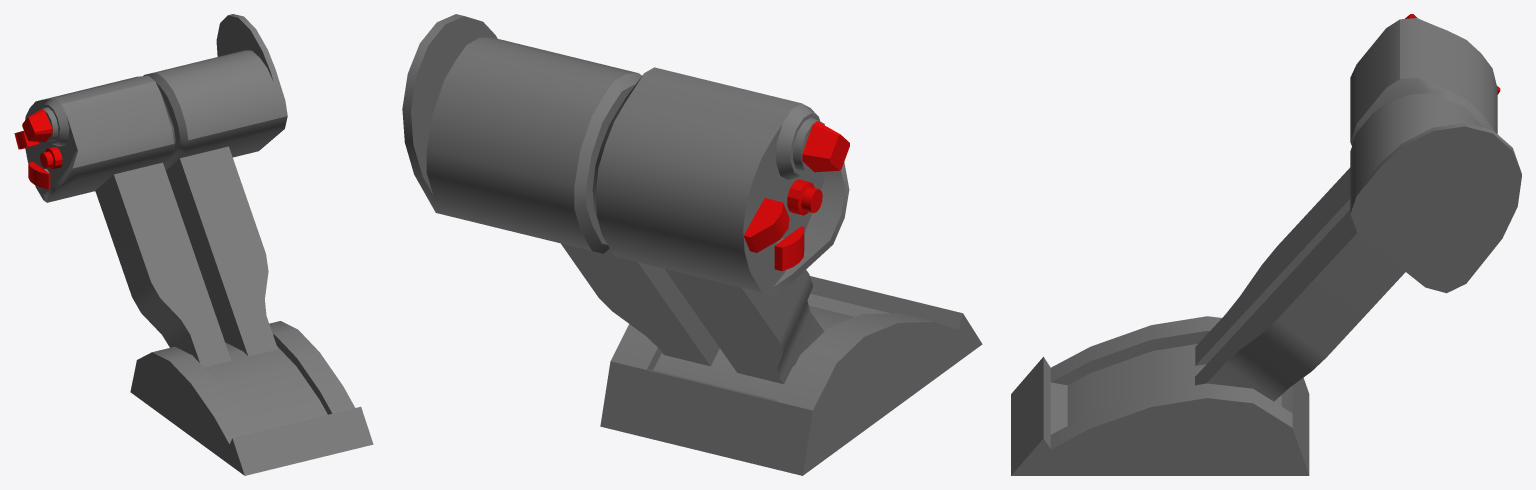
The model's file is F22 Throttle.fbx.
3 renders of one model, left to right at view 1: azimuth 30°, elevation 25°; view 2: azimuth 150°, elevation 25°; view 3: azimuth 270°, elevation 25°, orthographic. The views are drawn at different scales.
Visible parts, largest first — view 1: F22_Throttle_Base, polySurface13, polySurface11, polySurface17, polySurface9, polySurface16, polySurface15, polySurface10; view 2: polySurface9, F22_Throttle_Base, polySurface17, polySurface13, polySurface11, polySurface16, polySurface14, polySurface10, polySurface15; view 3: F22_Throttle_Base, polySurface17, polySurface11, polySurface9, polySurface13.
Boxes of the visible parts, bbox=[...] form: F22_Throttle_Base: bbox=[130, 321, 373, 475]; polySurface13: bbox=[95, 162, 231, 367]; polySurface11: bbox=[165, 146, 277, 356]; polySurface17: bbox=[143, 14, 287, 169]; polySurface9: bbox=[25, 75, 175, 202]; polySurface16: bbox=[22, 109, 52, 142]; polySurface15: bbox=[28, 162, 50, 189]; polySurface10: bbox=[40, 147, 62, 169]; polySurface9: bbox=[592, 67, 849, 295]; F22_Throttle_Base: bbox=[600, 276, 982, 475]; polySurface17: bbox=[402, 14, 641, 253]; polySurface13: bbox=[665, 269, 824, 384]; polySurface11: bbox=[561, 243, 719, 366]; polySurface16: bbox=[802, 121, 849, 172]; polySurface14: bbox=[743, 198, 789, 252]; polySurface10: bbox=[787, 179, 822, 215]; polySurface15: bbox=[774, 226, 804, 271]; F22_Throttle_Base: bbox=[1011, 316, 1309, 475]; polySurface17: bbox=[1350, 93, 1521, 293]; polySurface11: bbox=[1195, 209, 1405, 401]; polySurface9: bbox=[1350, 18, 1497, 145]; polySurface13: bbox=[1195, 167, 1350, 365].
Bounding box in the file's own units: 0.9154 × 1.07 × 1.32.
